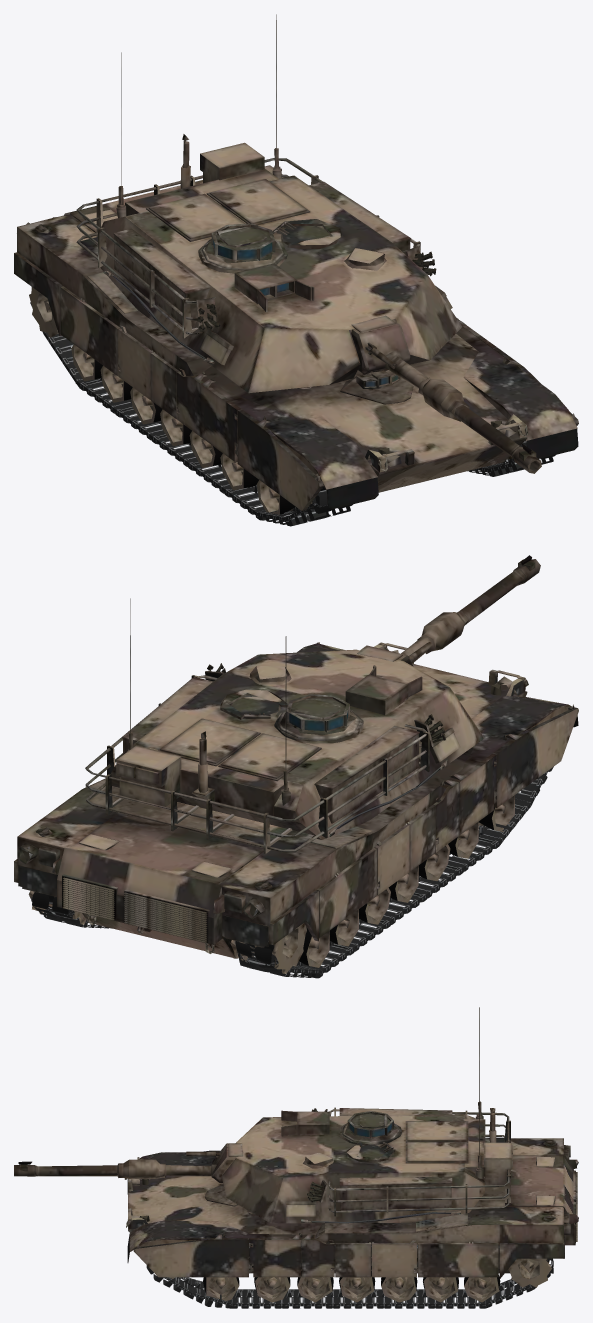
Rendered from m_abrams.glb.
3 views of the same model, one above another, from view 1: azimuth 30°, elevation 25°; view 2: azimuth 150°, elevation 25°; view 3: azimuth 270°, elevation 25° (orthographic). The views are drawn at different scales.
Size of the model in its own units: 0.389 by 0.4728 by 1.04.
Materials: 2 (2 with a texture image).
